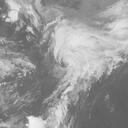cyclone: (53, 20, 108, 83)
